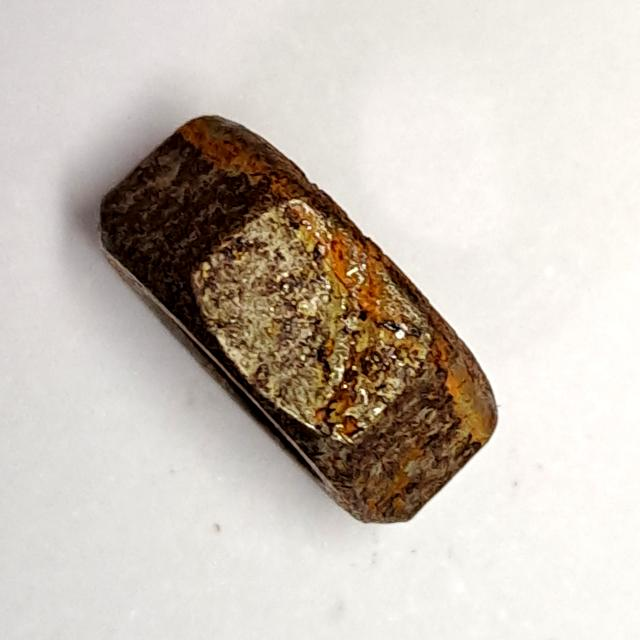Side_Rust: (83, 102, 506, 536)
